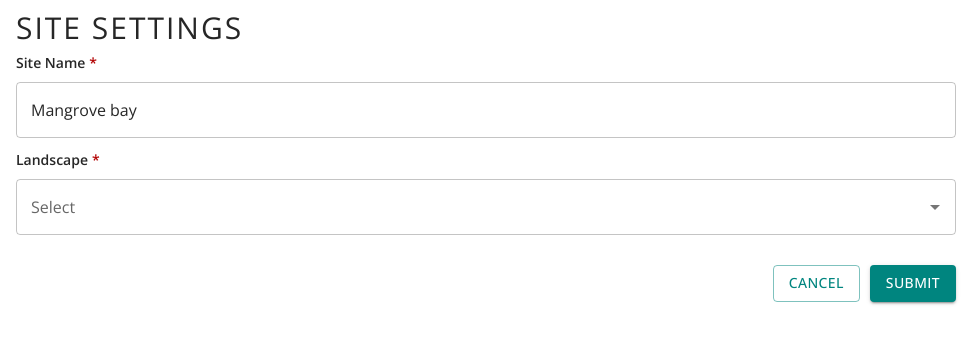
Scenario: SiteForm › loads a saved site and asks for a landscape before saving
Expected: the field labelled "Site Name *" holds "Mangrove bay", [16,82,956,138]
Expected: the heading "Site Settings" is shown, [16,7,243,48]
What coordinates should you click on to do the following:
click the button "Submit"
I would click on:
 (913, 283)
Its box is [870,265,956,302].
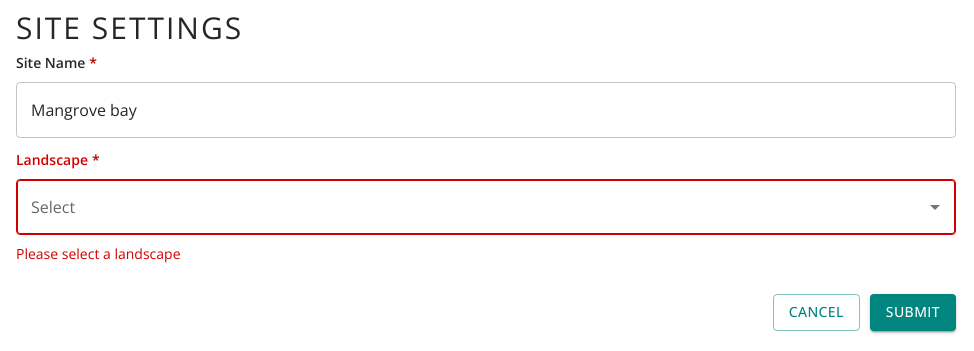
Expected: the text "Please select a landscape" is shown, [16,244,180,263]
